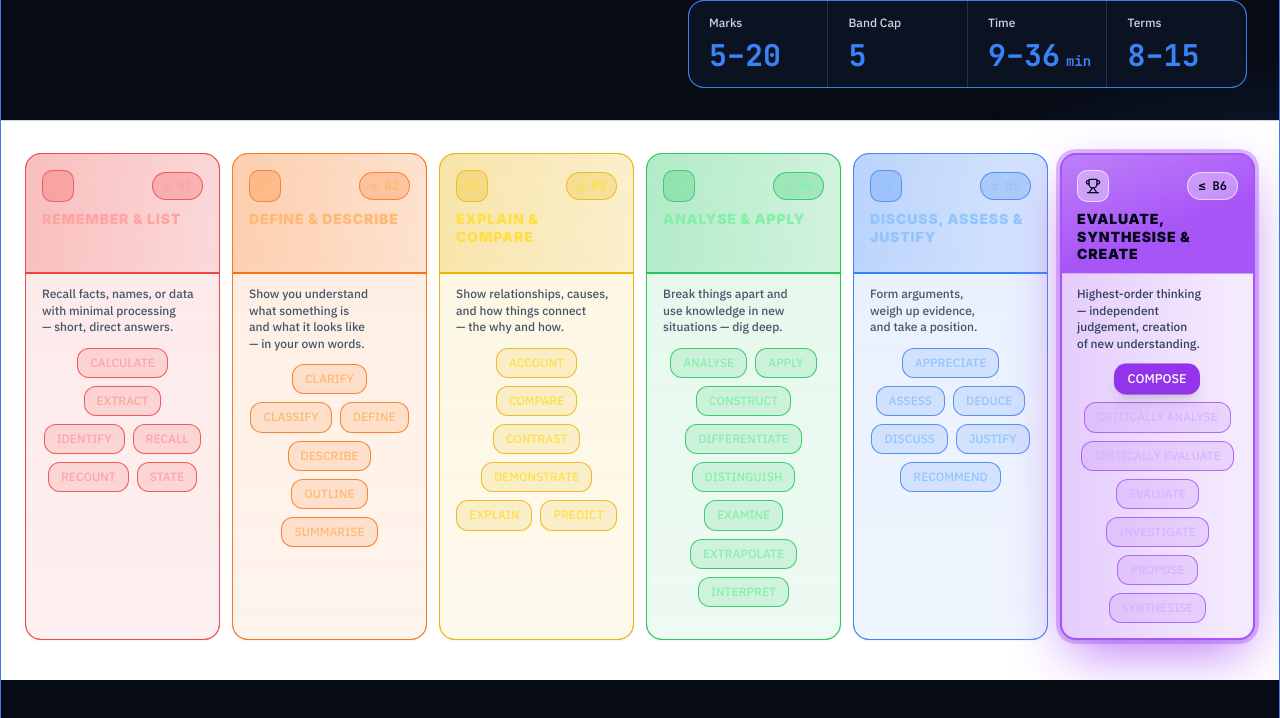
Test: CommandVerbHierarchy › lights the question’s own verb to the question’s band ceiling
(page scrolled)
Click the button "EVALUATE". click: click(1157, 494)
box: 1116,479 -> 1199,509
(page scrolled)
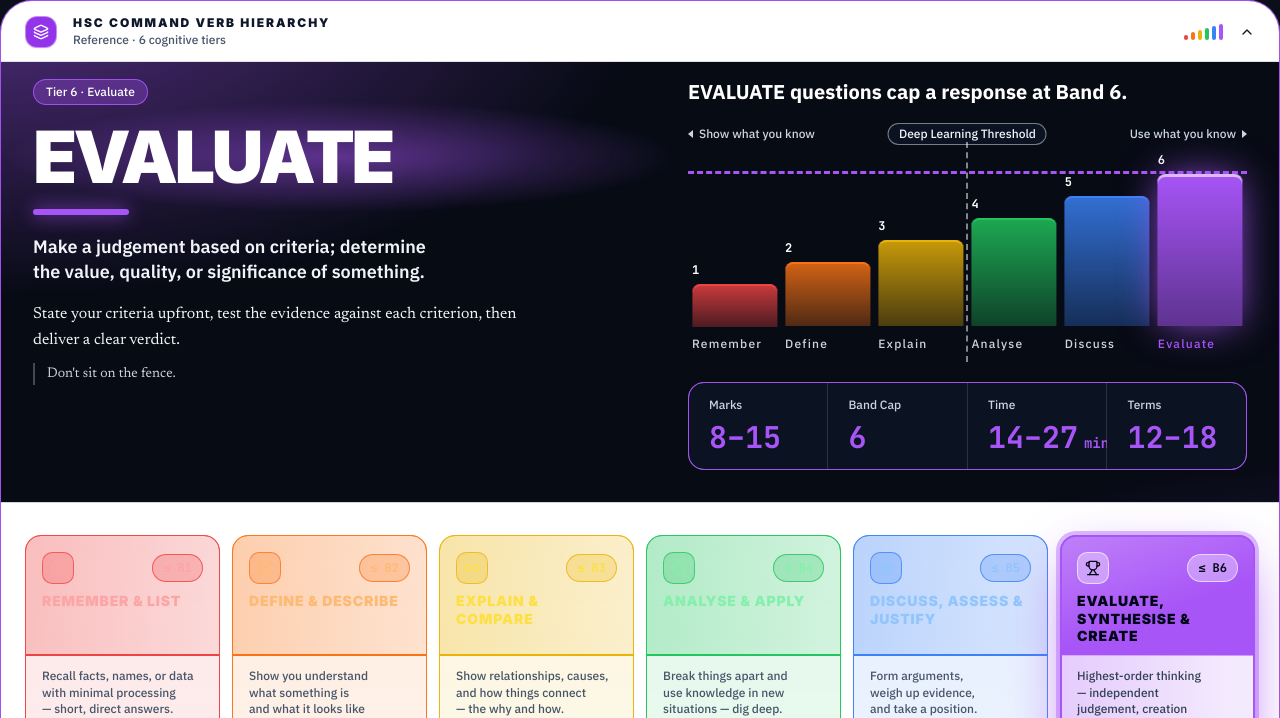
Check: the text "EVALUATE questions cap a response at Band 6." is shown, box 688,78 -> 1127,105
